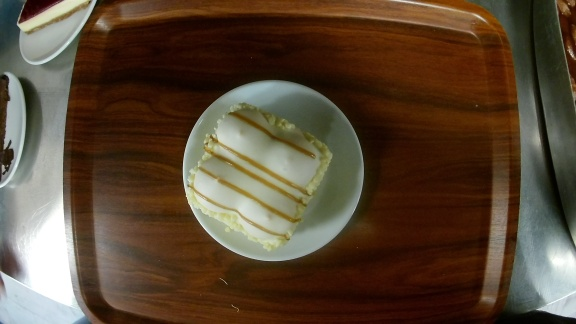beyazpasta: (184, 80, 364, 261)
